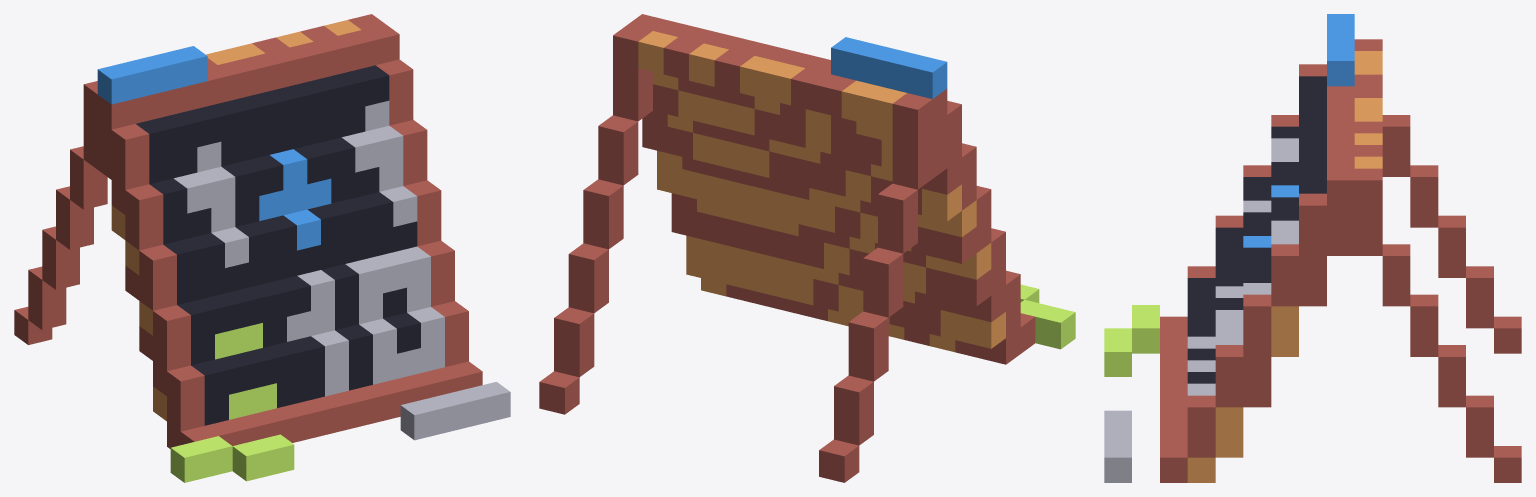
File: Board.obj
The picture shows the model from 3 angles, left to right: view 1: azimuth 30°, elevation 25°; view 2: azimuth 150°, elevation 25°; view 3: azimuth 270°, elevation 25°; orthographic projection. The views are drawn at different scales.
Bounding box in the file's own units: 1.3 × 1.3 × 1.5.
Materials: 1 (1 with a texture image).
